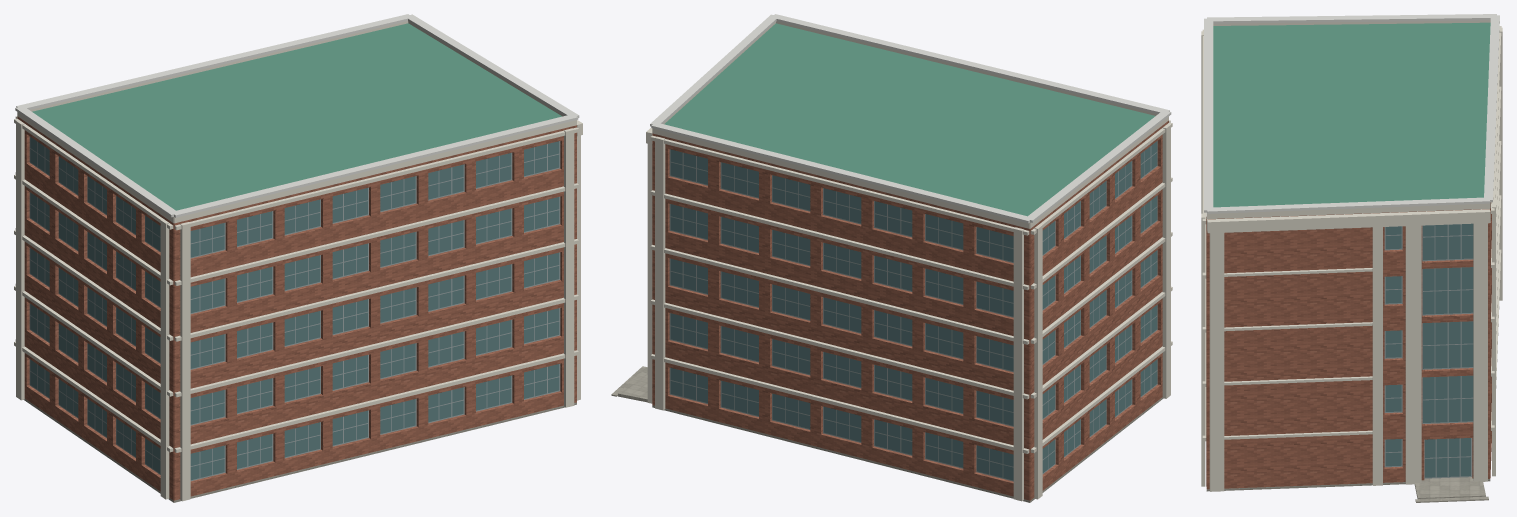
The picture shows the model from 3 angles, left to right: view 1: azimuth 30°, elevation 25°; view 2: azimuth 150°, elevation 25°; view 3: azimuth 270°, elevation 25°; orthographic projection. The views are drawn at different scales.
Visible parts, largest first — view 1: wing3__brick, wing3__glass, wing3__roof, wing3__cream, wing3__frame, wing3__white, wing3__stone; view 2: wing3__brick, wing3__roof, wing3__glass, wing3__cream, wing3__frame, wing3__white, wing3__stone; view 3: wing3__roof, wing3__brick, wing3__cream, wing3__glass, wing3__white, wing3__frame, wing3__threshold-west, wing3__stone.
Boxes of the visible parts, <box> form: wing3__brick: <box>17,116,576,500</box>; wing3__glass: <box>30,137,559,480</box>; wing3__roof: <box>32,23,561,210</box>; wing3__cream: <box>14,21,582,501</box>; wing3__frame: <box>29,136,560,481</box>; wing3__white: <box>15,14,579,217</box>; wing3__stone: <box>24,399,576,502</box>; wing3__brick: <box>652,120,1168,500</box>; wing3__roof: <box>664,23,1155,216</box>; wing3__glass: <box>670,141,1157,480</box>; wing3__cream: <box>646,21,1172,501</box>; wing3__frame: <box>669,141,1157,481</box>; wing3__white: <box>650,14,1171,223</box>; wing3__stone: <box>652,397,1163,502</box>; wing3__roof: <box>1213,22,1490,207</box>; wing3__brick: <box>1206,202,1491,489</box>; wing3__cream: <box>1201,20,1502,491</box>; wing3__glass: <box>1385,223,1473,477</box>; wing3__white: <box>1204,14,1499,213</box>; wing3__frame: <box>1384,224,1473,478</box>; wing3__threshold-west: <box>1414,477,1485,498</box>; wing3__stone: <box>1206,479,1490,491</box>.
Bounding box in the file's own units: 29.88 × 18.65 × 18.12.
Materials: 7 (2 with a texture image).
